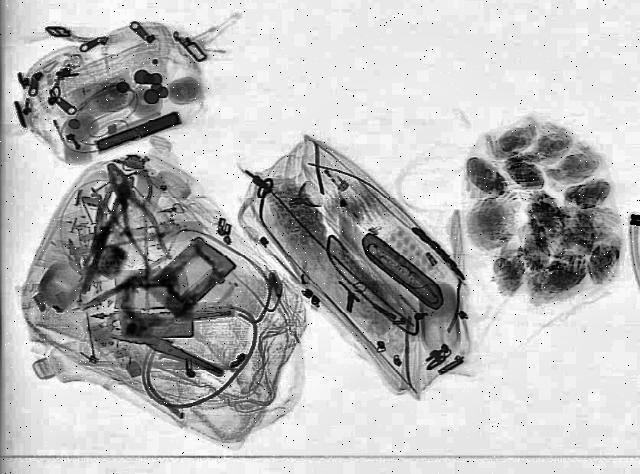Pliers: (96, 296, 240, 376), (92, 160, 176, 272)
